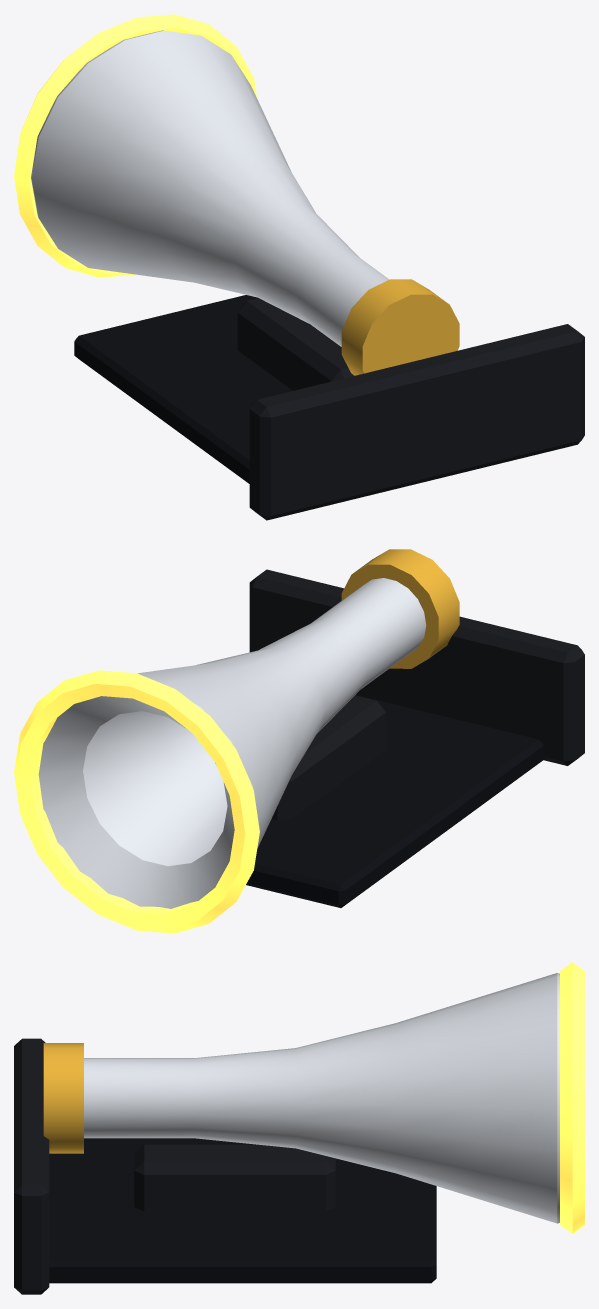
File: horn_ship.glb
3 renders of one model, top to bottom at view 1: azimuth 30°, elevation 25°; view 2: azimuth 150°, elevation 25°; view 3: azimuth 270°, elevation 25°, orthographic. The views are drawn at different scales.
Parts seen in each view (by area): view 1: horn_ship_chrome, horn_ship_deco_body, horn_ship_deco_trim, horn_ship_paint_gold, horn_ship_lamp_amber; view 2: horn_ship_chrome, horn_ship_deco_body, horn_ship_deco_trim, horn_ship_lamp_amber, horn_ship_paint_gold; view 3: horn_ship_chrome, horn_ship_deco_trim, horn_ship_deco_body, horn_ship_lamp_amber, horn_ship_paint_gold.
Part boxes in pixels (x1=…): horn_ship_chrome: x1=31, y1=30, x2=388, y2=346; horn_ship_deco_body: x1=237, y1=298, x2=584, y2=520; horn_ship_deco_trim: x1=74, y1=295, x2=292, y2=483; horn_ship_paint_gold: x1=341, y1=279, x2=459, y2=375; horn_ship_lamp_amber: x1=14, y1=14, x2=256, y2=277; horn_ship_chrome: x1=38, y1=578, x2=426, y2=908; horn_ship_deco_body: x1=249, y1=569, x2=584, y2=820; horn_ship_deco_trim: x1=246, y1=695, x2=544, y2=907; horn_ship_lamp_amber: x1=14, y1=670, x2=259, y2=933; horn_ship_paint_gold: x1=341, y1=549, x2=459, y2=668; horn_ship_chrome: x1=84, y1=973, x2=559, y2=1223; horn_ship_deco_trim: x1=49, y1=1138, x2=436, y2=1283; horn_ship_deco_body: x1=14, y1=1038, x2=335, y2=1294; horn_ship_lamp_amber: x1=560, y1=962, x2=584, y2=1233; horn_ship_paint_gold: x1=43, y1=1043, x2=83, y2=1153.
Size of the model in its own units: 0.36 by 0.272 by 0.5669.
